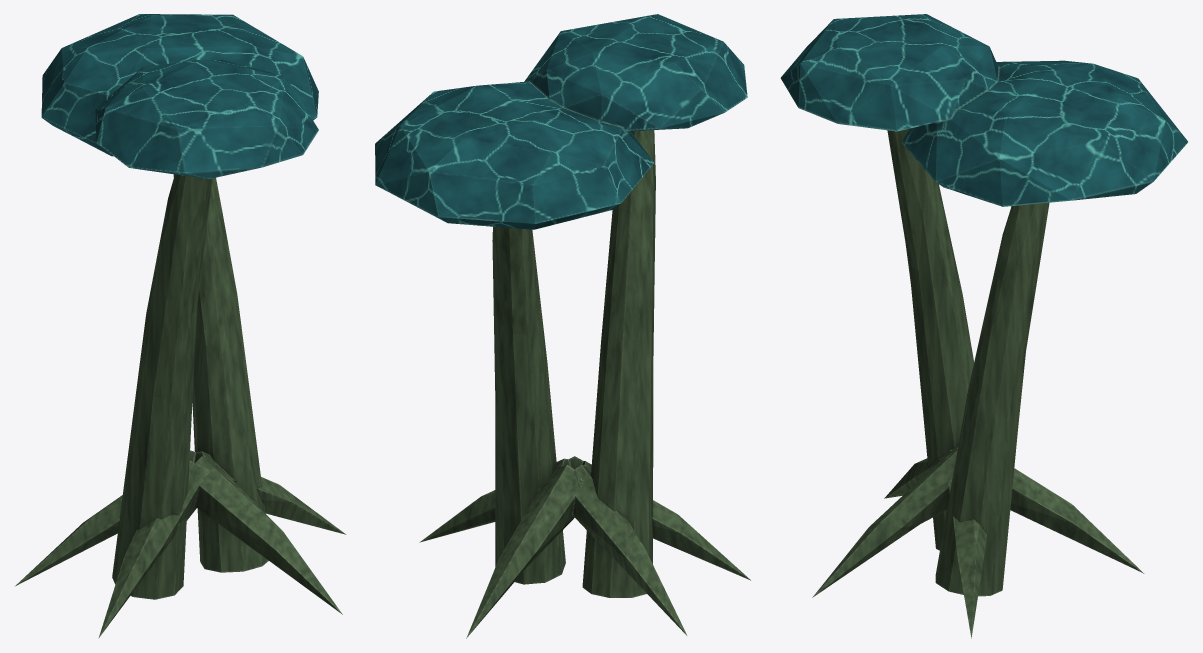
The model's file is underworld-flora-fungal-tanglecap-young.glb.
The picture shows the model from 3 angles, left to right: view 1: azimuth 30°, elevation 25°; view 2: azimuth 150°, elevation 25°; view 3: azimuth 270°, elevation 25°; orthographic projection.
Parts seen in each view (by area): view 1: strands, caps, roots; view 2: caps, strands, roots; view 3: caps, strands, roots.
Boxes of the visible parts, <box> form: strands: <box>112,174,268,599</box>; caps: <box>41,14,318,179</box>; roots: <box>15,450,346,638</box>; caps: <box>375,14,747,229</box>; strands: <box>492,130,655,597</box>; roots: <box>419,456,750,638</box>; caps: <box>780,14,1187,206</box>; strands: <box>887,128,1049,596</box>; roots: <box>812,445,1144,638</box>.
Size of the model in its own units: 2.33 by 3.87 by 2.77.
3 materials, 3 textured.
